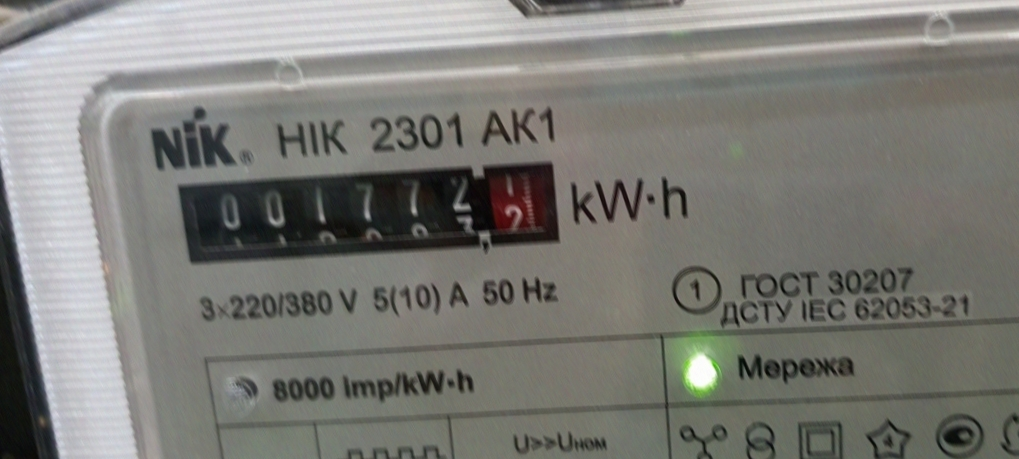0: (212, 189, 241, 230), (260, 187, 284, 227)
1: (308, 184, 326, 223), (500, 173, 514, 198)
2: (446, 176, 470, 213), (498, 202, 522, 232)
3: (452, 213, 475, 235)
7: (351, 181, 375, 222), (397, 178, 420, 217)
screen: (164, 151, 575, 275)
